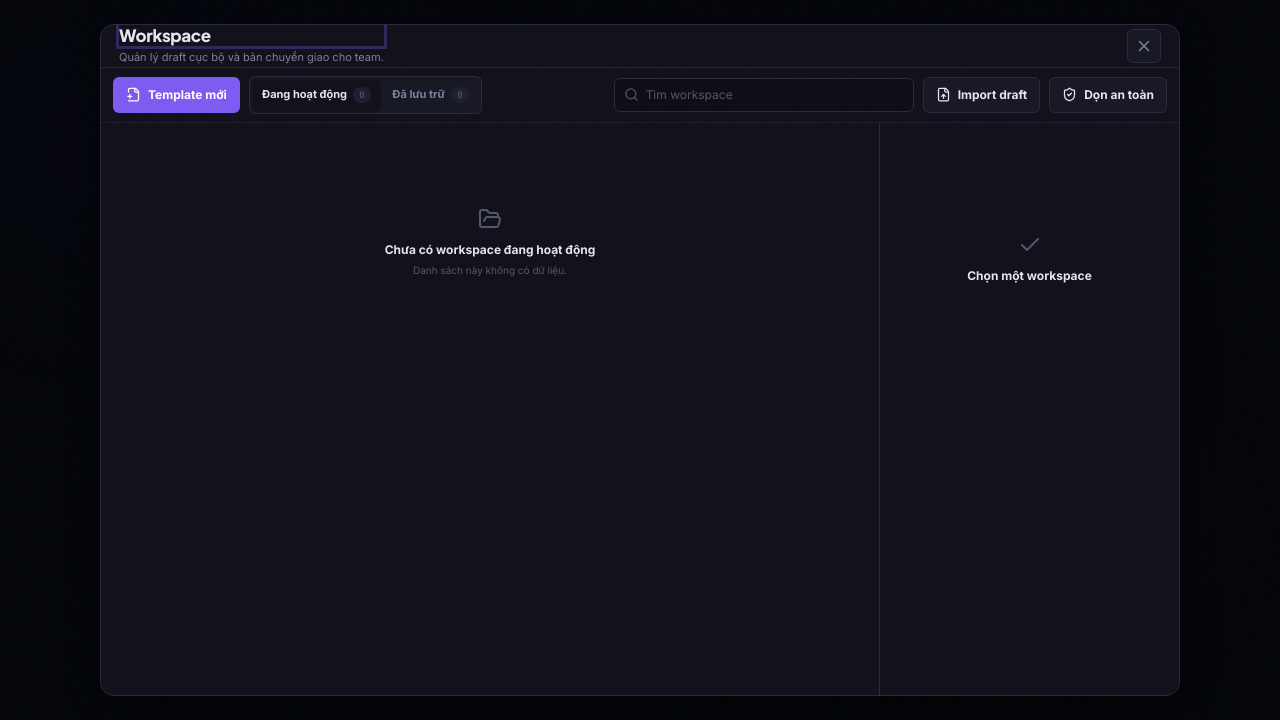
Test: Template Studio workspace manager › opens the new template workflow even when no workspace exists
Click the button "Template mới": (176, 95) [113, 77, 240, 113]
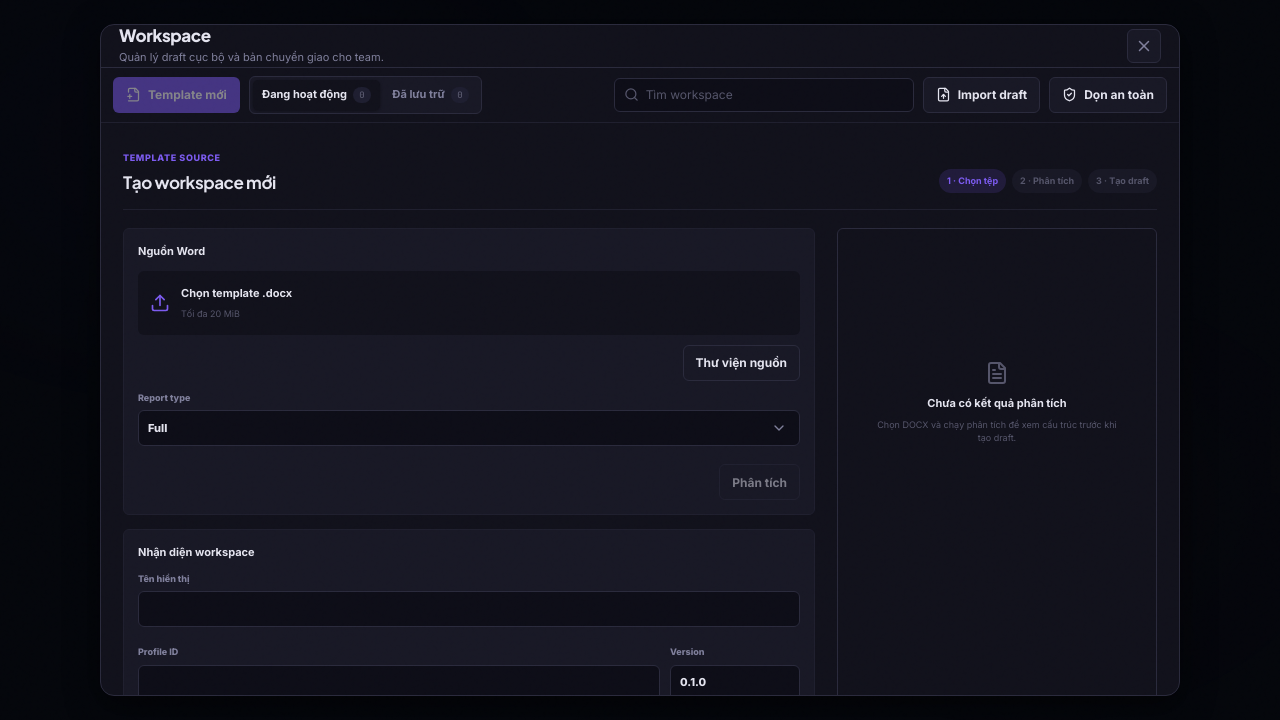
Now the heading "Tạo workspace mới" is shown, box [123, 172, 276, 194]
Now the text "Chưa có kết quả phân tích" is shown, box [927, 395, 1067, 413]
